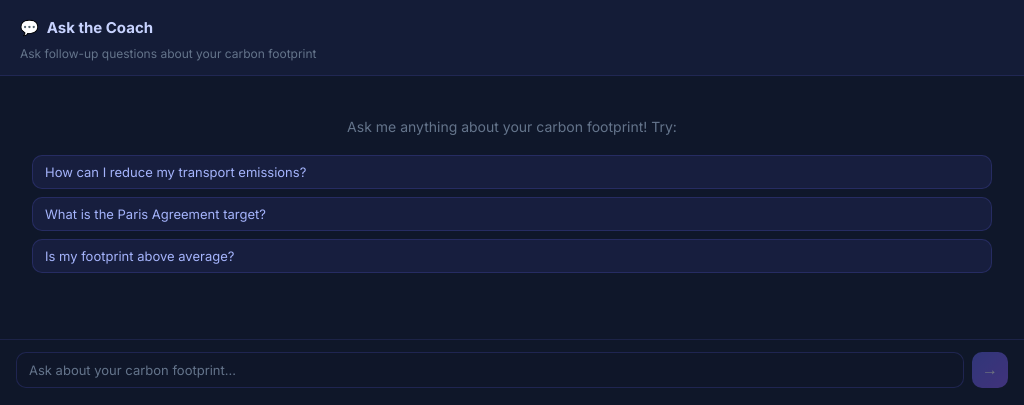
Test: ChatCoach › sending a message › sends a message and displays the user message
Type "How can I reduce emissions?" into the text box named "Type your question" at (490, 370), box [16,352,964,388]
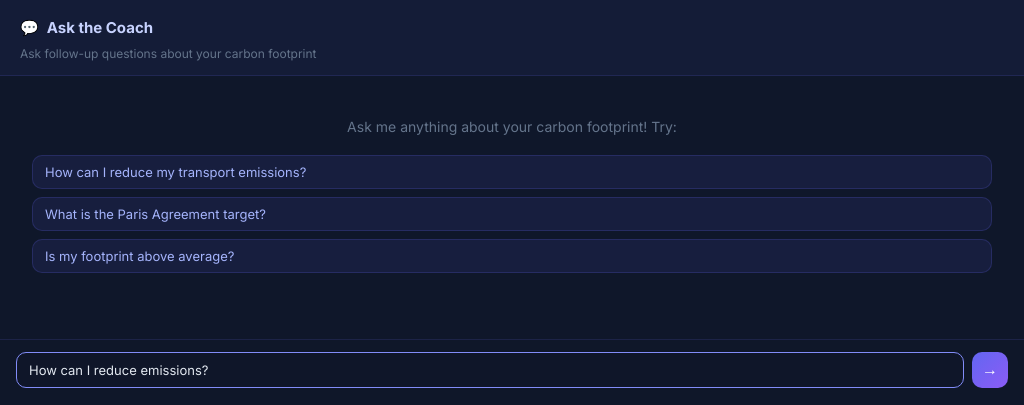
Click the button named "Send message" at (990, 370), box [972,352,1008,388]
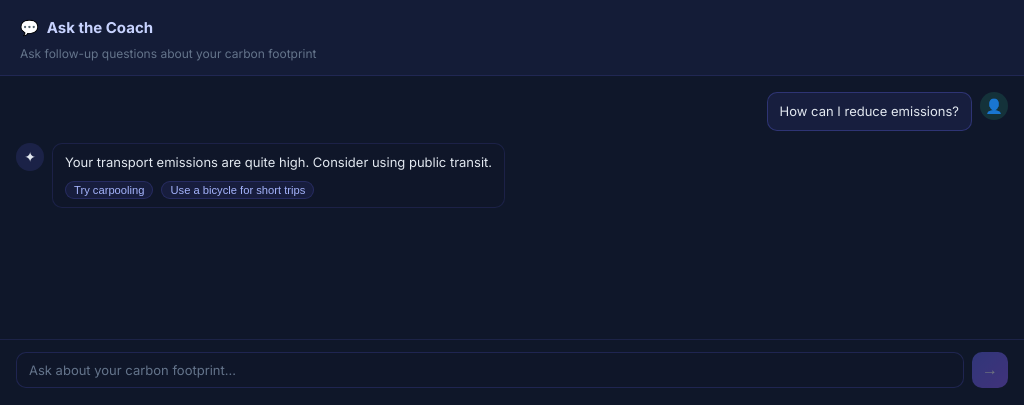
Expected: the text "How can I reduce emissions?" is shown, [780,101,959,122]
